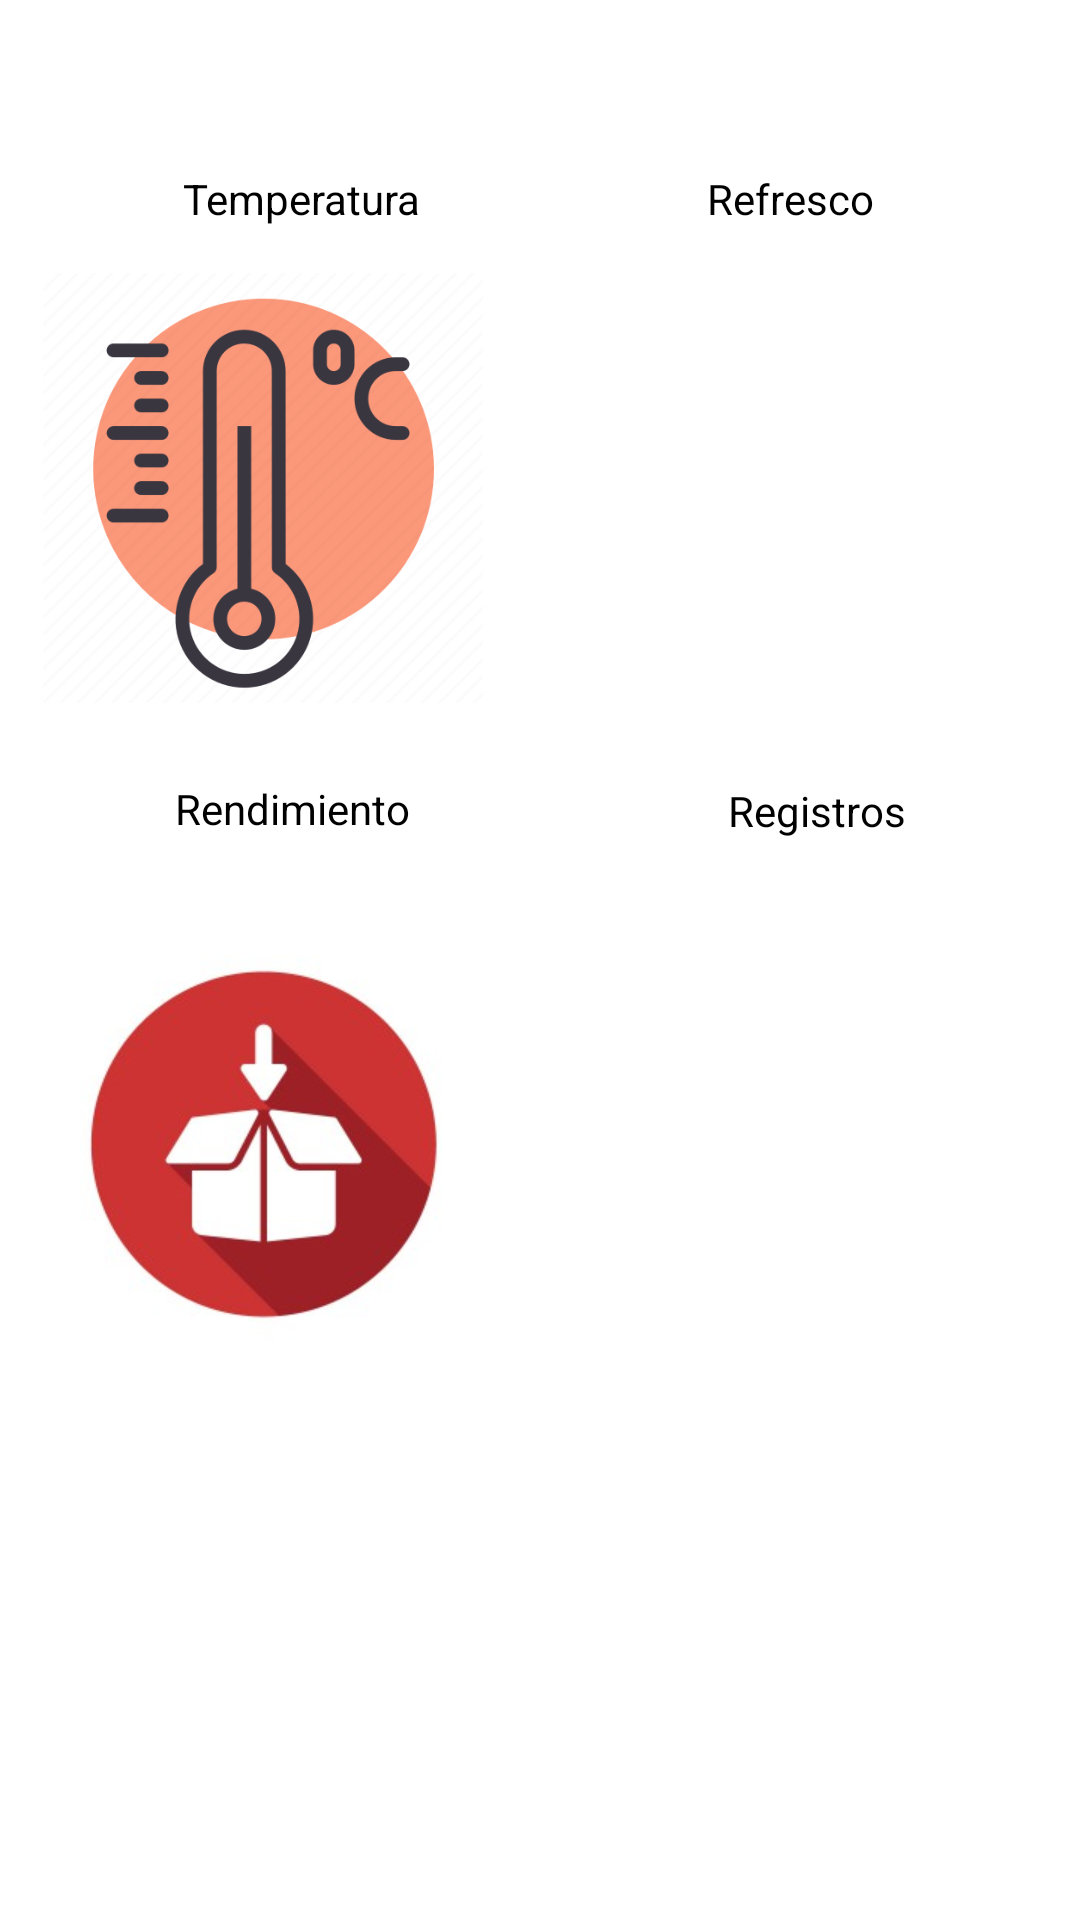

Where icons sit on this 1080w x 1920h app screen, as BBox(x1, y1, x2, y2):
abastecimiento: BBox(90, 970, 437, 1318)
